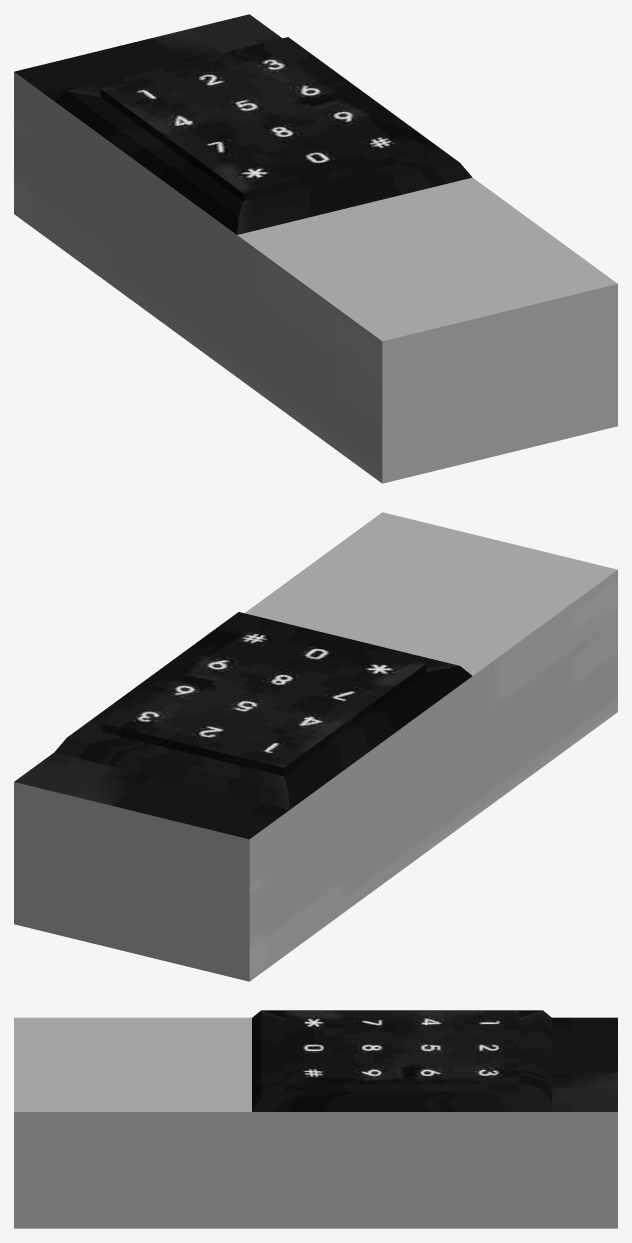
File: keypad.glb
3 views of the same model, one above another, from view 1: azimuth 30°, elevation 25°; view 2: azimuth 150°, elevation 25°; view 3: azimuth 270°, elevation 25° (orthographic). The views are drawn at different scales.
Visible parts, largest first — view 1: Keypad; view 2: Keypad; view 3: Keypad.
Boxes of the visible parts, x1,y1,x2,y2 form: Keypad: [14, 14, 617, 483]; Keypad: [14, 512, 617, 981]; Keypad: [14, 1010, 617, 1228].
Bounding box in the file's own units: 2.62 × 1.73 × 7.1.
1 material, 1 textured.
